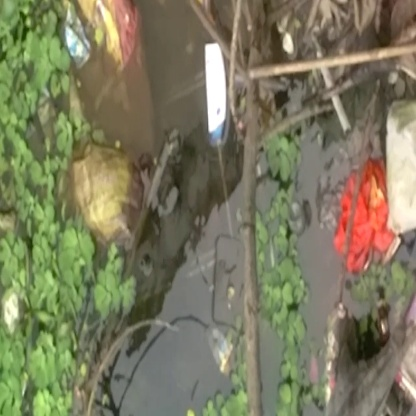bottle: (199, 42, 235, 157)
